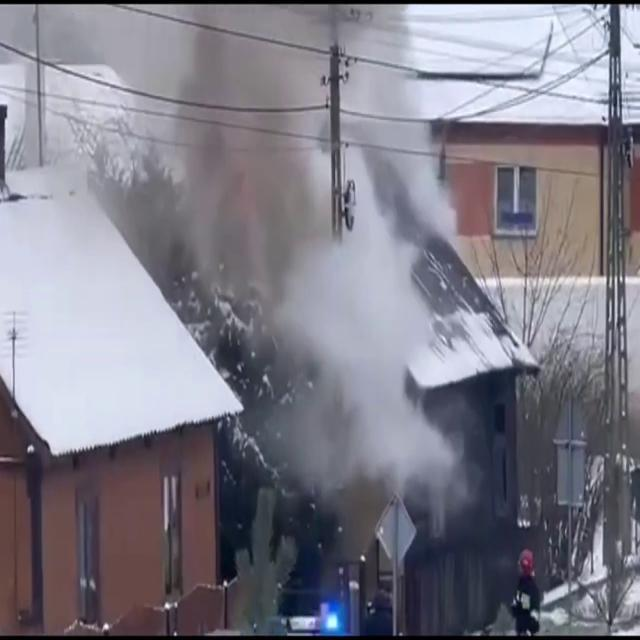Smoke: (120, 2, 473, 498)
